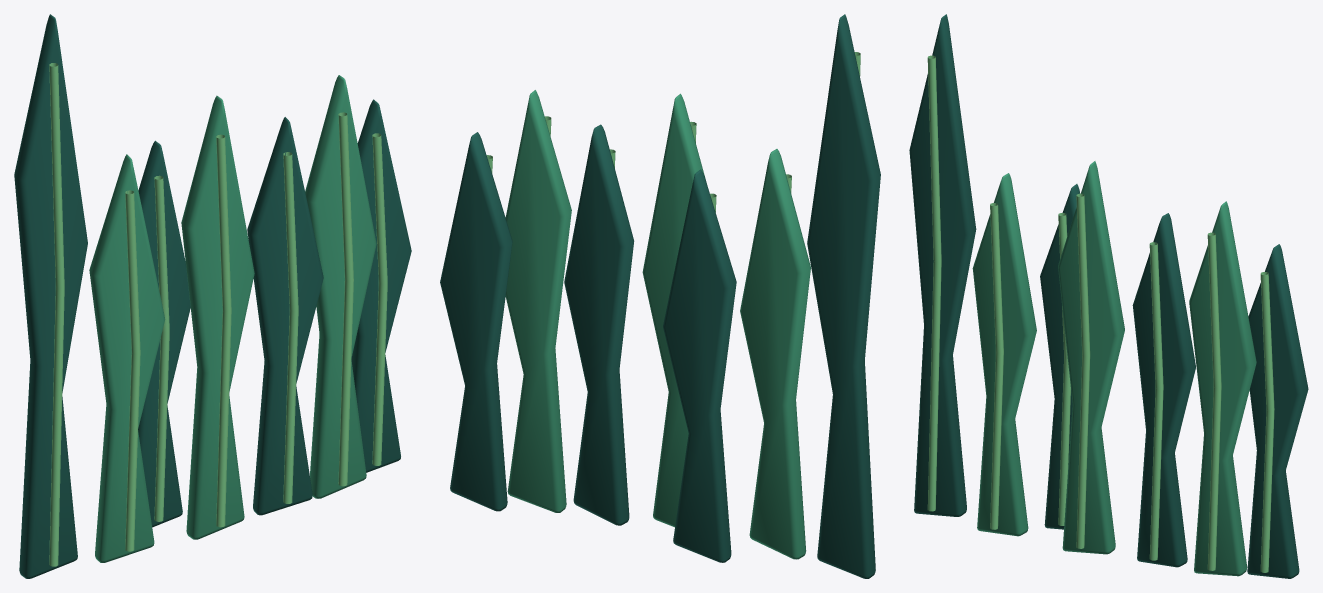
Rendered from r004_reef_kelp_cards_kelp_01.glb.
3 views of the same model, side by side, from view 1: azimuth 30°, elevation 25°; view 2: azimuth 150°, elevation 25°; view 3: azimuth 330°, elevation 25° (orthographic). The views are drawn at different scales.
Parts seen in each view (by area): view 1: r004_reef_kelp_cards_kelp_01.001; view 2: r004_reef_kelp_cards_kelp_01.001; view 3: r004_reef_kelp_cards_kelp_01.001.
Part boxes in pixels (left/top/right/bottom): r004_reef_kelp_cards_kelp_01.001: left=14, top=14, right=411, bottom=578; r004_reef_kelp_cards_kelp_01.001: left=440, top=14, right=880, bottom=578; r004_reef_kelp_cards_kelp_01.001: left=909, top=14, right=1308, bottom=578.
Bounding box in the file's own units: 2.56 × 3.29 × 0.4449.
